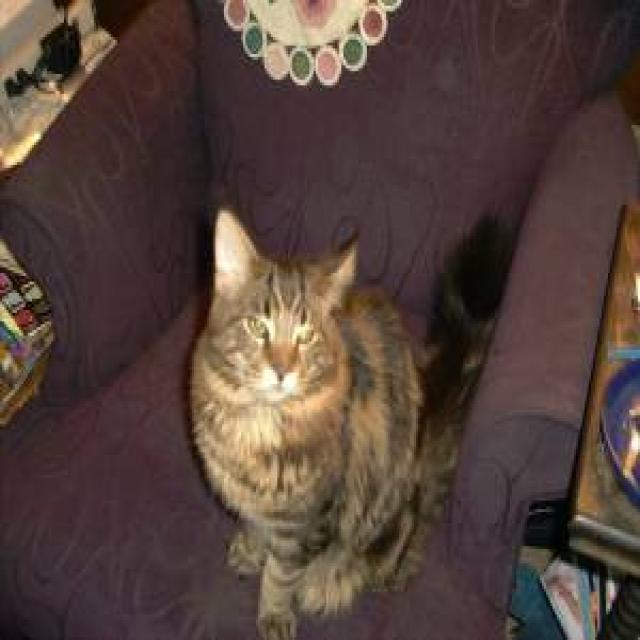Maine_Coon: (209, 197, 365, 413)
